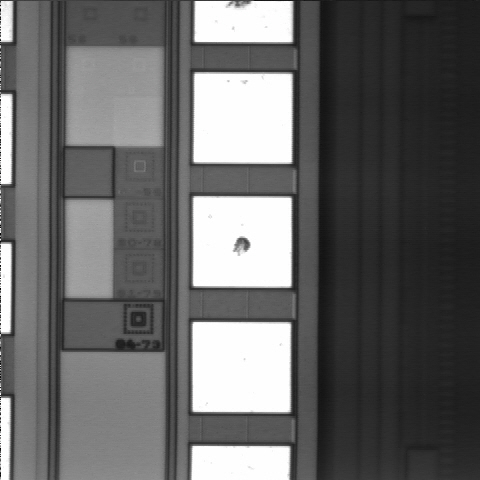pad: (194, 73, 292, 164), (193, 196, 291, 287), (193, 322, 291, 412)
